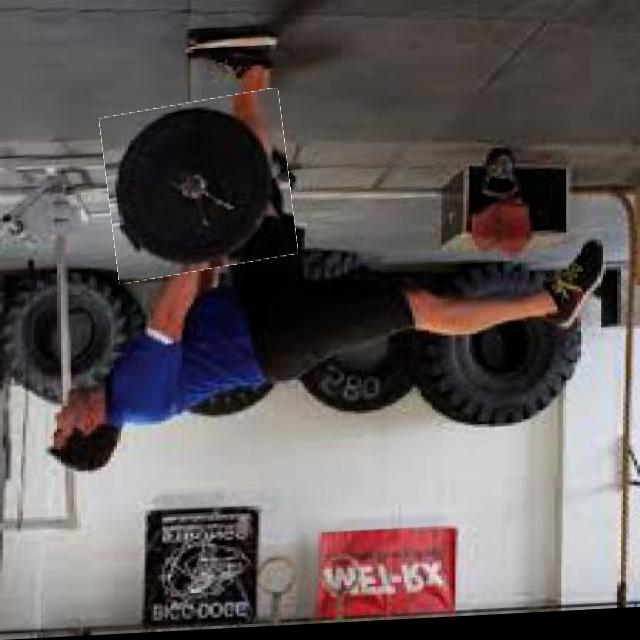barbell: (105, 96, 295, 282)
